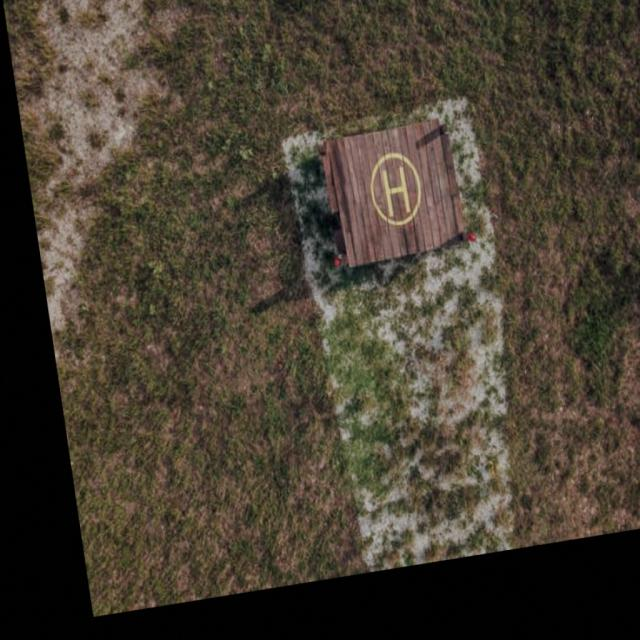helipad: (367, 149, 424, 226)
